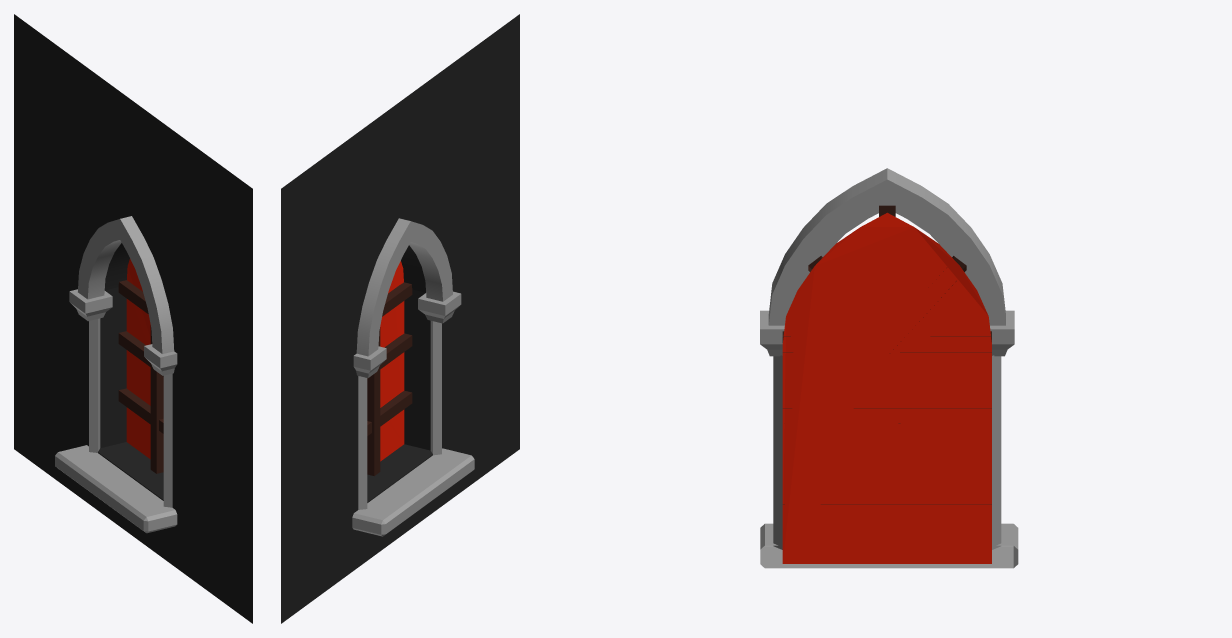
The model's file is standard_window_20.FBX.
The picture shows the model from 3 angles, left to right: view 1: azimuth 30°, elevation 25°; view 2: azimuth 150°, elevation 25°; view 3: azimuth 270°, elevation 25°; orthographic projection. The views are drawn at different scales.
Parts seen in each view (by area): view 1: standard_window_20; view 2: standard_window_20; view 3: standard_window_20.
Part boxes in pixels (<box>): standard_window_20: <box>14,14,252,623</box>; standard_window_20: <box>281,14,519,623</box>; standard_window_20: <box>760,168,1018,568</box>.
Bounding box in the file's own units: 46.99 × 300 × 298.
